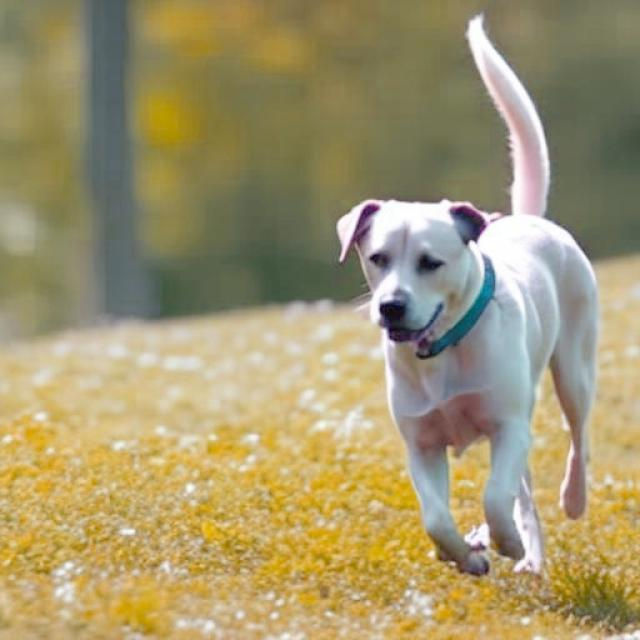Dog: (337, 10, 598, 576)
